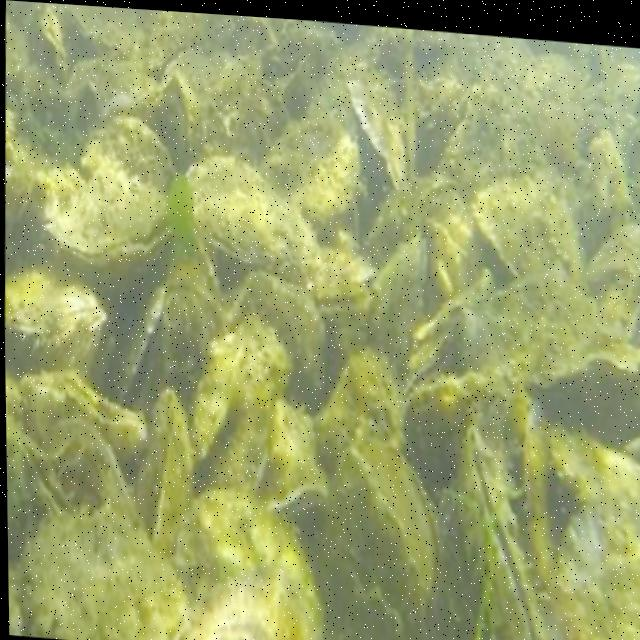Oyster-Closed: (21, 510, 189, 640), (458, 418, 556, 640), (45, 117, 176, 275), (190, 152, 318, 276), (364, 436, 441, 608), (22, 367, 148, 468), (369, 236, 431, 388), (399, 305, 487, 410), (160, 280, 226, 412), (148, 71, 205, 175), (14, 431, 72, 518), (274, 570, 318, 640)
Oyster-Indeterminate: (177, 491, 321, 640), (192, 315, 289, 499), (330, 451, 424, 635), (225, 264, 323, 418), (408, 373, 531, 482), (474, 171, 584, 286), (551, 507, 640, 640), (5, 270, 105, 378), (263, 111, 356, 222), (136, 389, 195, 563), (547, 422, 640, 529), (584, 225, 640, 345), (348, 70, 405, 185), (524, 407, 557, 584), (196, 358, 239, 460)
Oyster-Open: (313, 276, 373, 318), (275, 487, 328, 521)
